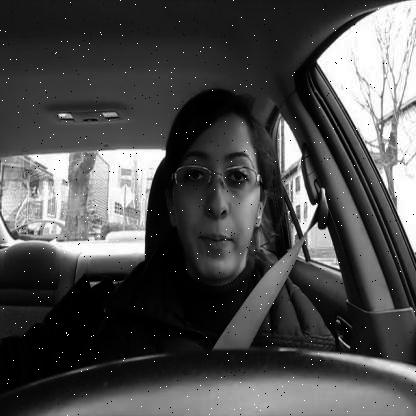seatbelt: (159, 82, 334, 351)
